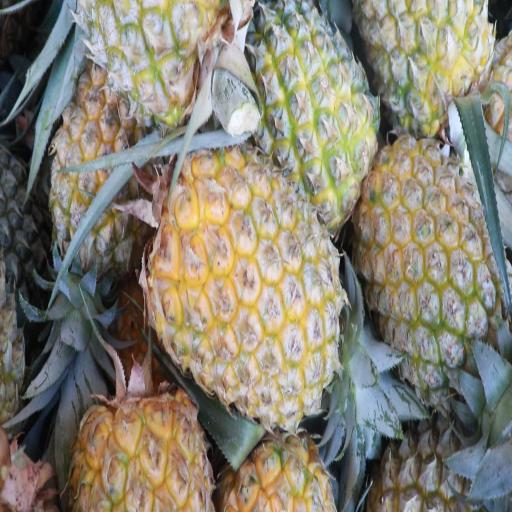------------------------------: (47, 63, 147, 262)
Pineapple - v8 v1: (160, 153, 348, 404), (366, 142, 504, 370), (243, 7, 376, 205), (366, 0, 492, 128)
